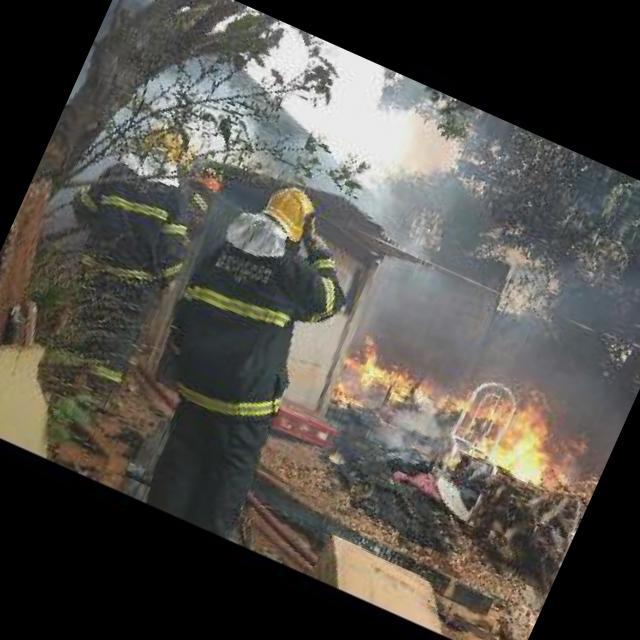fire: (420, 355, 603, 521), (322, 326, 456, 446)
